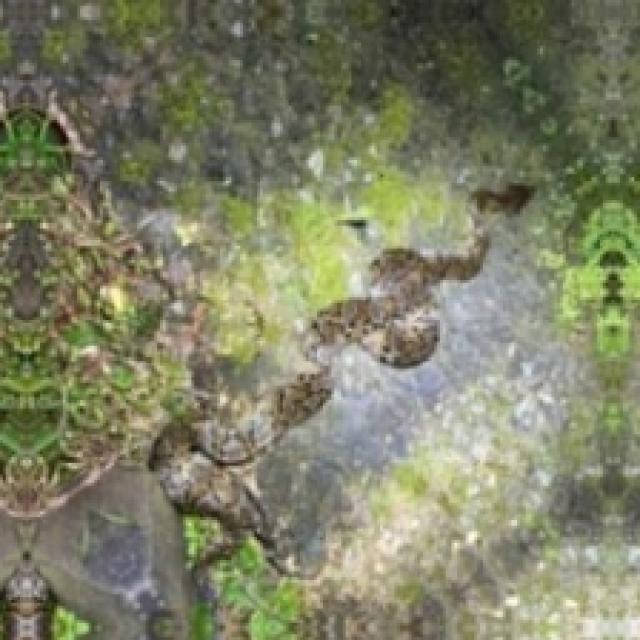reticulated python: (151, 188, 533, 567)
